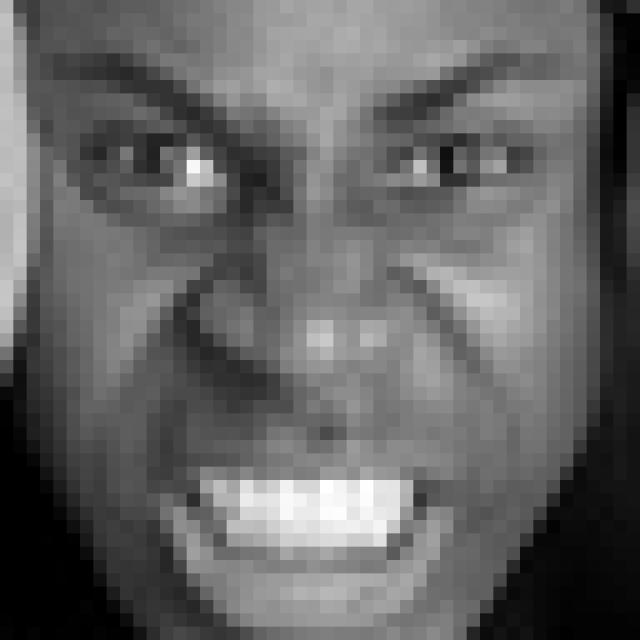angry: (61, 47, 565, 640)
